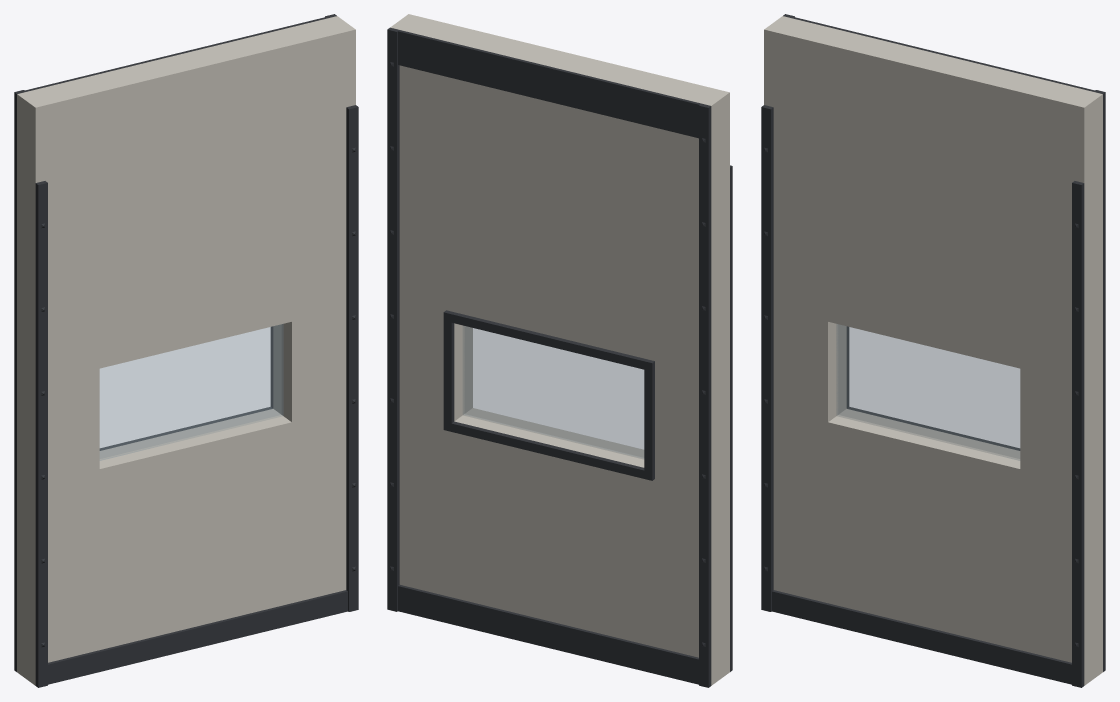
File: ws_wall_window.glb
The picture shows the model from 3 angles, left to right: view 1: azimuth 30°, elevation 25°; view 2: azimuth 150°, elevation 25°; view 3: azimuth 330°, elevation 25°; orthographic projection.
Parts seen in each view (by area): view 1: ws_wall_window; view 2: ws_wall_window; view 3: ws_wall_window.
Part boxes in pixels (x1,y1,x2,y2): ws_wall_window: [14, 14, 358, 687]; ws_wall_window: [387, 14, 732, 687]; ws_wall_window: [761, 14, 1105, 687].
Size of what is drawn, in the model's own units: 2 by 3.45 by 0.276.
